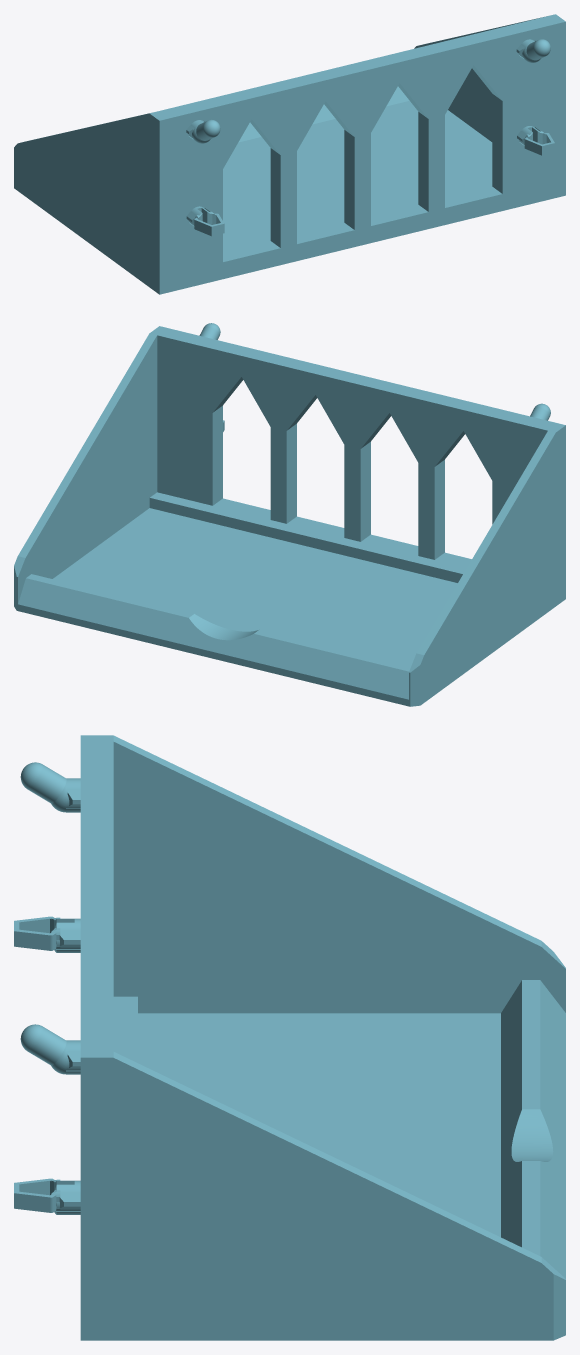
File: part-solder-drip-tray__v12__upright__fit-pf02c9-hoop5__installed.glb
The picture shows the model from 3 angles, top to bottom: view 1: azimuth 30°, elevation 25°; view 2: azimuth 150°, elevation 25°; view 3: azimuth 270°, elevation 25°; orthographic projection. The views are drawn at different scales.
Parts seen in each view (by area): view 1: part-solder-drip-tray__v12__upright__fit-pf02c9-hoop5__insta; view 2: part-solder-drip-tray__v12__upright__fit-pf02c9-hoop5__insta; view 3: part-solder-drip-tray__v12__upright__fit-pf02c9-hoop5__insta.
Boxes of the visible parts, x1,y1,x2,y2 form: part-solder-drip-tray__v12__upright__fit-pf02c9-hoop5__insta: (14,14,565,294); part-solder-drip-tray__v12__upright__fit-pf02c9-hoop5__insta: (14,323,565,706); part-solder-drip-tray__v12__upright__fit-pf02c9-hoop5__insta: (14,735,565,1340).
Size of the model in its own units: 0.125 by 0.0514 by 0.0905.
